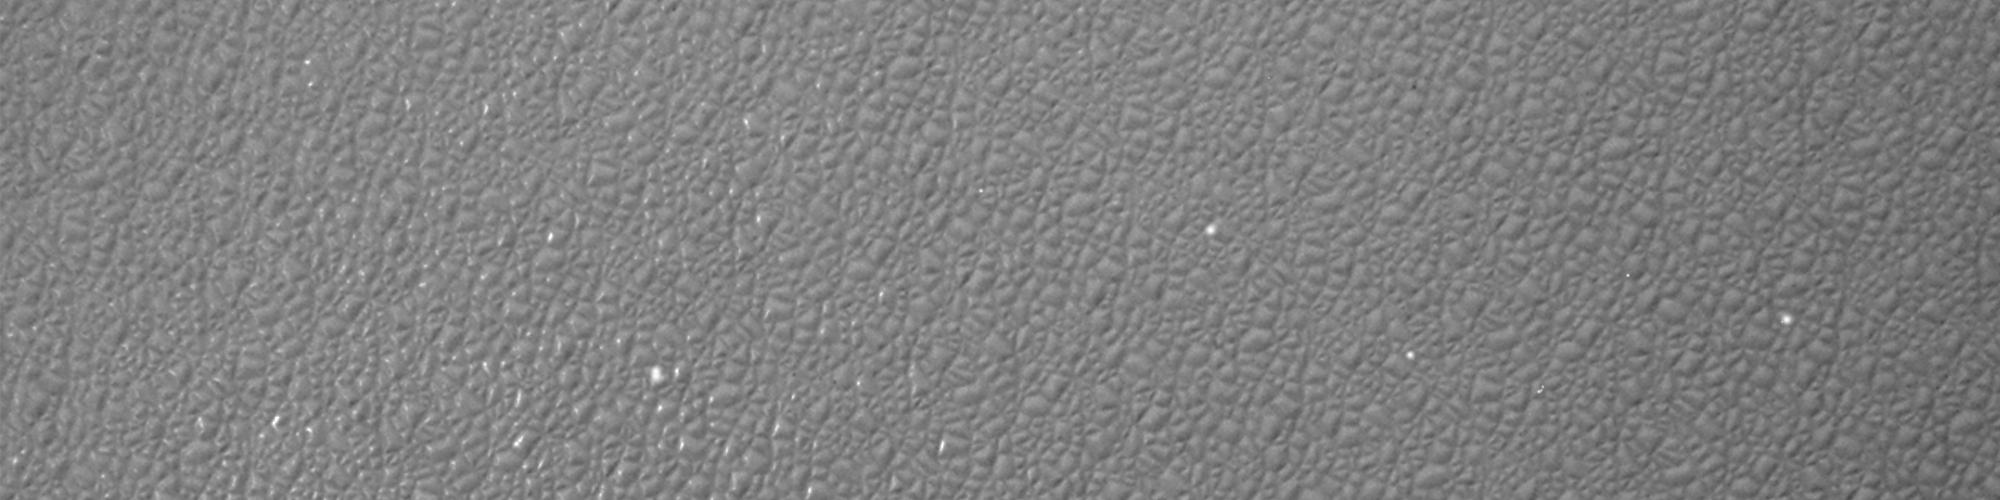Particles: (645, 362, 665, 385), (1202, 218, 1221, 239), (1399, 346, 1420, 364), (1533, 378, 1550, 395), (1779, 310, 1797, 327), (1624, 270, 1633, 278)
